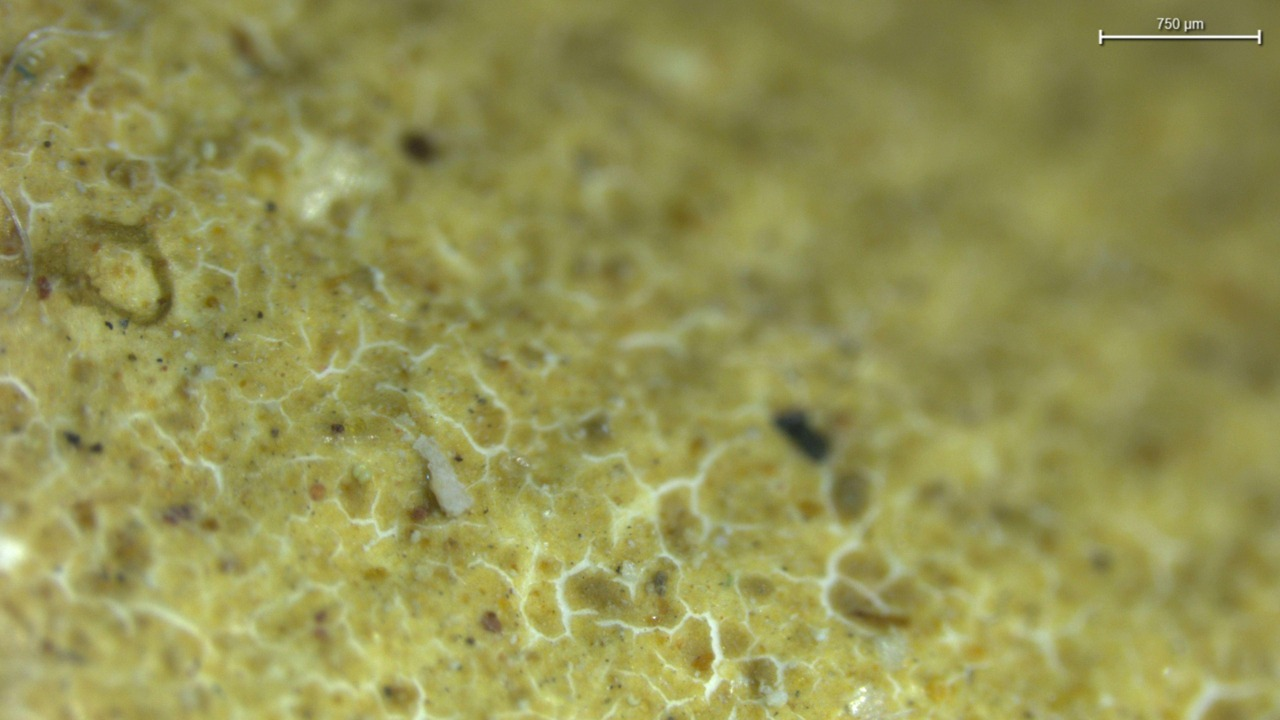microplastic_fragment: (412, 434, 473, 516)
